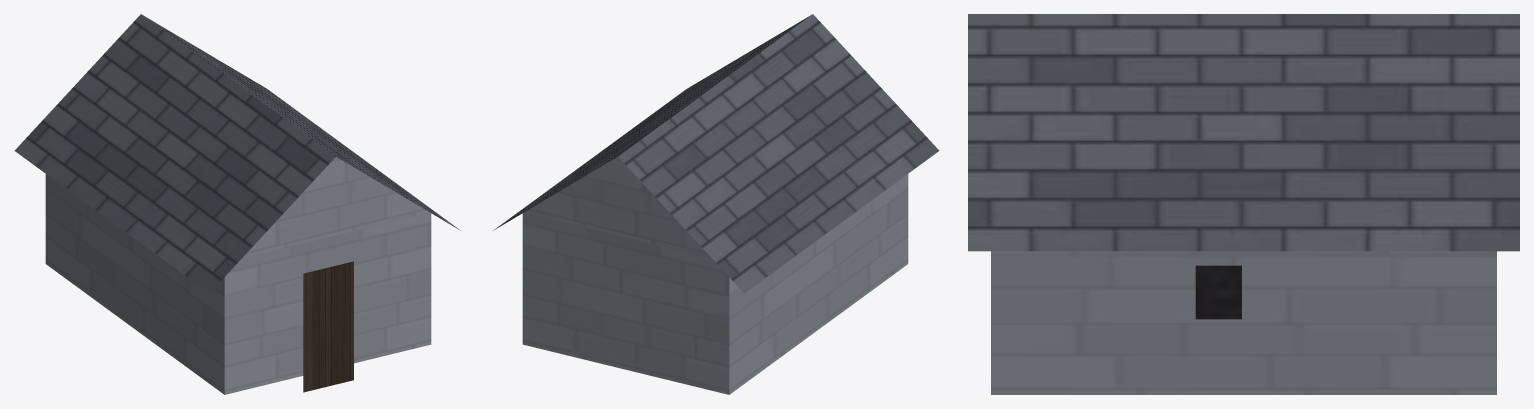
Rendered from ae_snow_stone_medium_block_lod2.glb.
3 views of the same model, side by side, from view 1: azimuth 30°, elevation 25°; view 2: azimuth 150°, elevation 25°; view 3: azimuth 270°, elevation 25° (orthographic). The views are drawn at different scales.
Parts seen in each view (by area): view 1: ae_snow_stone_medium_block_lod2; view 2: ae_snow_stone_medium_block_lod2; view 3: ae_snow_stone_medium_block_lod2.
Part boxes in pixels (x1,y1,x2,y2): ae_snow_stone_medium_block_lod2: (14,14,460,394); ae_snow_stone_medium_block_lod2: (493,14,939,394); ae_snow_stone_medium_block_lod2: (968,14,1519,394).
Bounding box in the file's own units: 4.9 × 4.35 × 6.54.
1 material, 1 textured.
